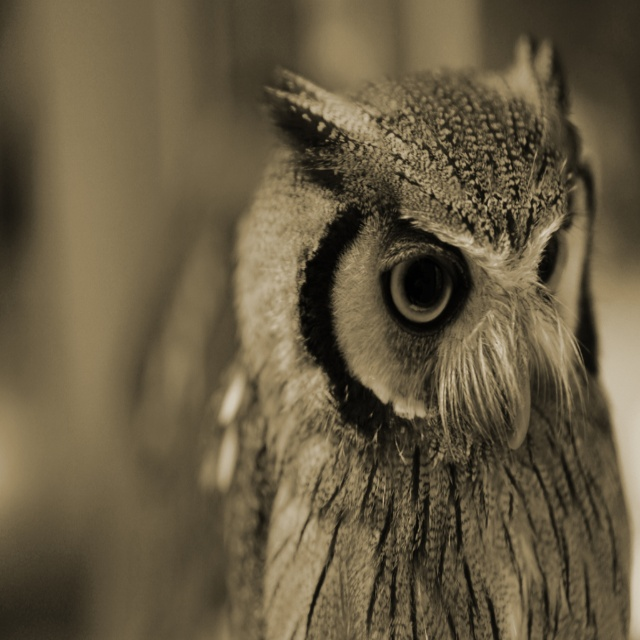Owl: (197, 33, 631, 639)
